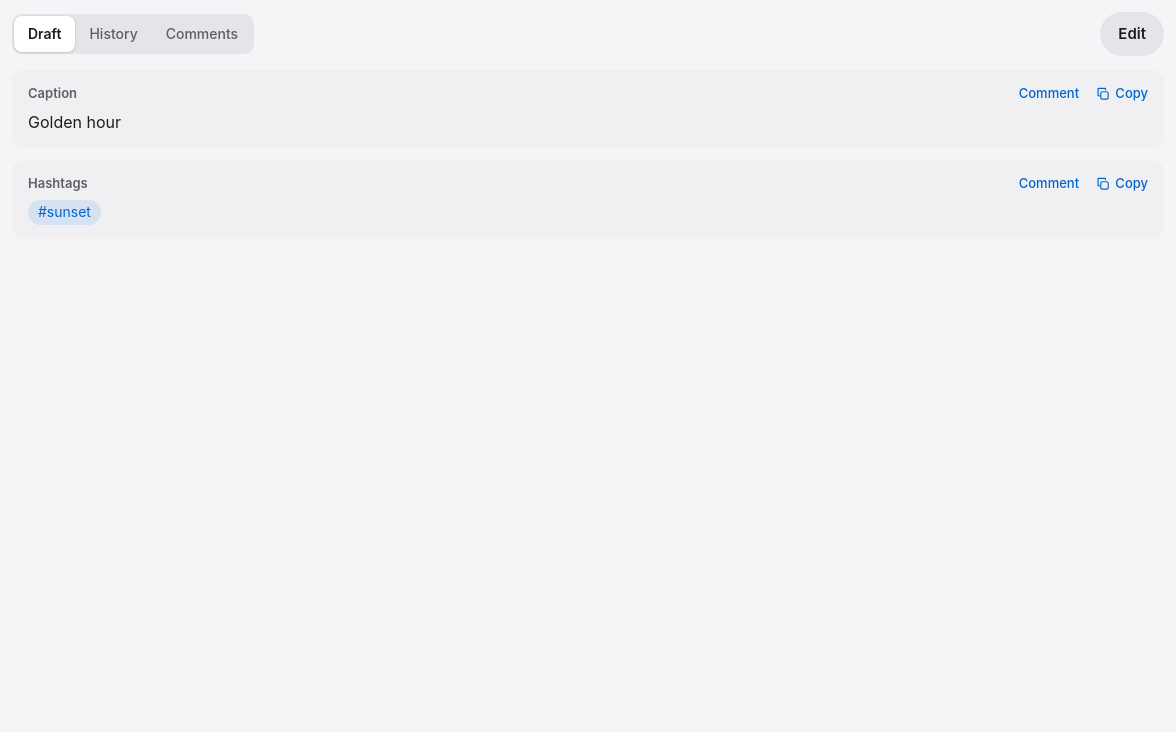
it: DraftPanel › edits a field and saves it as a new version based on the current one
Later steps or results of the test are not shown.
Click the button "Edit".
click(1132, 34)  # box left=1100, top=12, right=1164, bottom=56
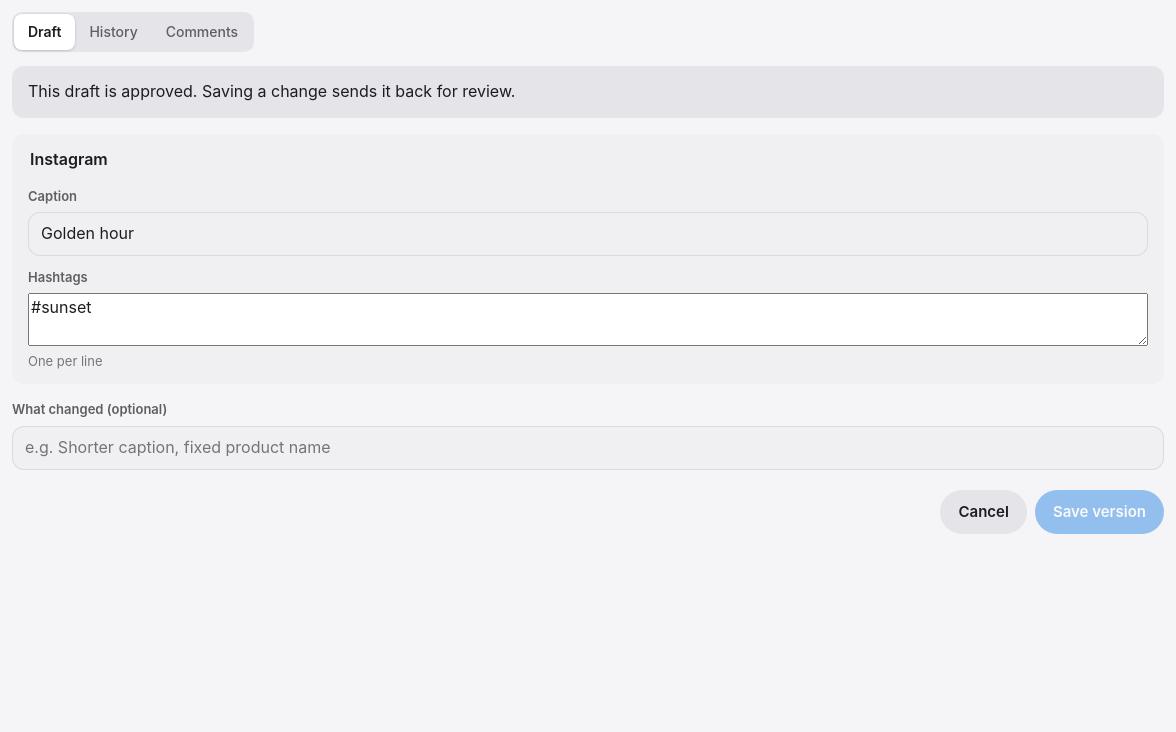
Expected: the text "Saving a change sends it back for review" is shown, left=28, top=81, right=515, bottom=101
Expected: the button "Save version" is disabled, left=1035, top=490, right=1164, bottom=534
